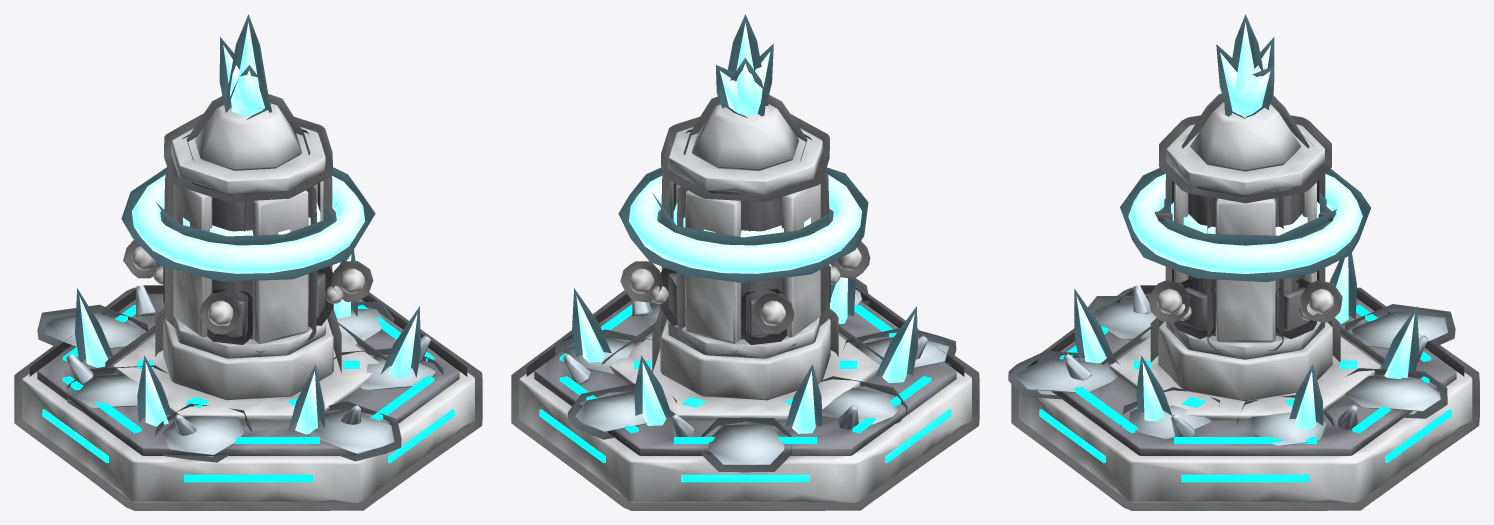
Rendered from cryo_field.glb.
The picture shows the model from 3 angles, left to right: view 1: azimuth 30°, elevation 25°; view 2: azimuth 150°, elevation 25°; view 3: azimuth 270°, elevation 25°; orthographic projection.
Visible parts, largest first — view 1: M_CryoField, M_Yaw, M_CryoField_Outline, M_Yaw_Outline, M_Orb, M_Orb_Outline; view 2: M_CryoField, M_Yaw, M_CryoField_Outline, M_Yaw_Outline, M_Orb, M_Orb_Outline; view 3: M_CryoField, M_Yaw, M_CryoField_Outline, M_Yaw_Outline, M_Orb, M_Orb_Outline.
Part boxes in pixels (x1,y1,x2,y2): M_CryoField: [22, 254, 474, 502]; M_Yaw: [132, 22, 364, 400]; M_CryoField_Outline: [14, 250, 482, 510]; M_Yaw_Outline: [123, 14, 373, 372]; M_Orb: [132, 174, 364, 273]; M_Orb_Outline: [121, 167, 375, 281]; M_CryoField: [519, 277, 971, 502]; M_Yaw: [629, 22, 861, 400]; M_CryoField_Outline: [511, 278, 979, 510]; M_Yaw_Outline: [620, 14, 870, 371]; M_Orb: [629, 174, 861, 273]; M_Orb_Outline: [618, 167, 868, 282]; M_CryoField: [1015, 256, 1472, 502]; M_Yaw: [1157, 22, 1333, 401]; M_CryoField_Outline: [1008, 253, 1479, 510]; M_Yaw_Outline: [1148, 14, 1342, 362]; M_Orb: [1128, 174, 1362, 273]; M_Orb_Outline: [1120, 168, 1370, 282].
Bounding box in the file's own units: 2.89 × 3.19 × 3.3.
